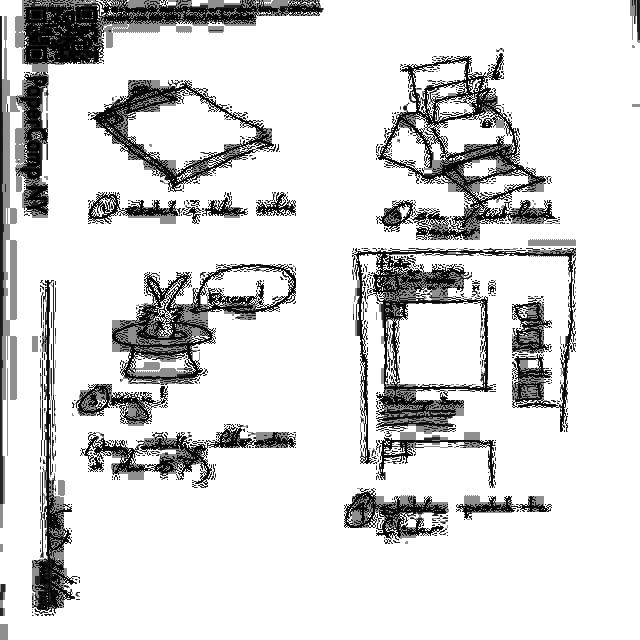qr_code: (27, 7, 98, 62)
